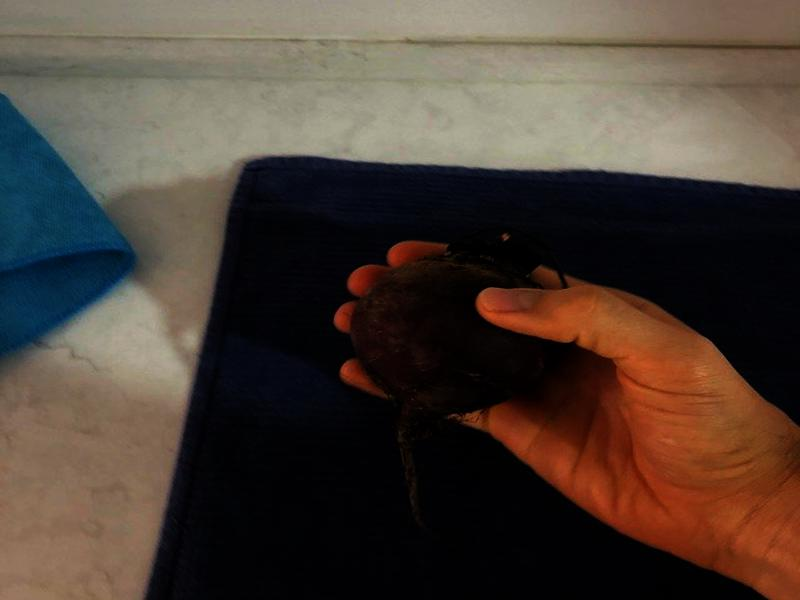Beet: (352, 229, 569, 536)
